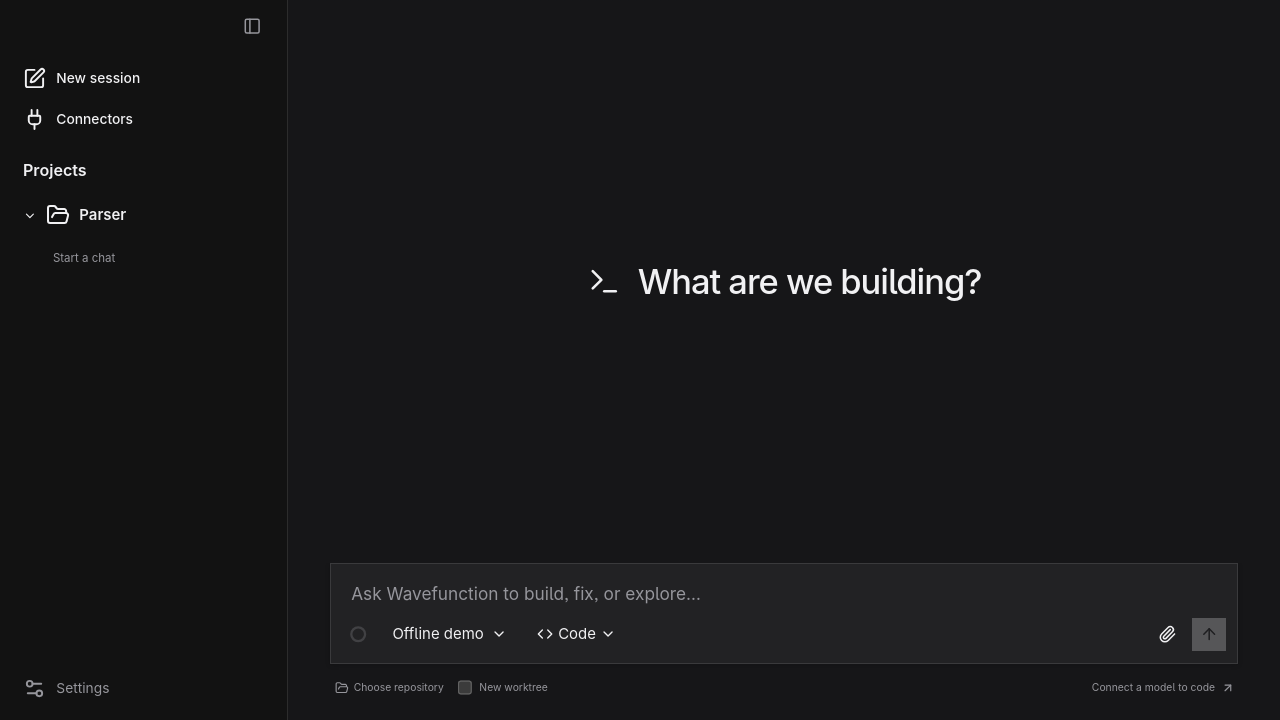
Test: replaces the project sidebar with settings and restores the chat draft
This screenshot has width=1280, height=720.
Type "Keep this draft" into the text box named "Message Wavefunction".
click(784, 589); type("Keep this draft")  # box x1=330 y1=564 x2=1237 y2=614
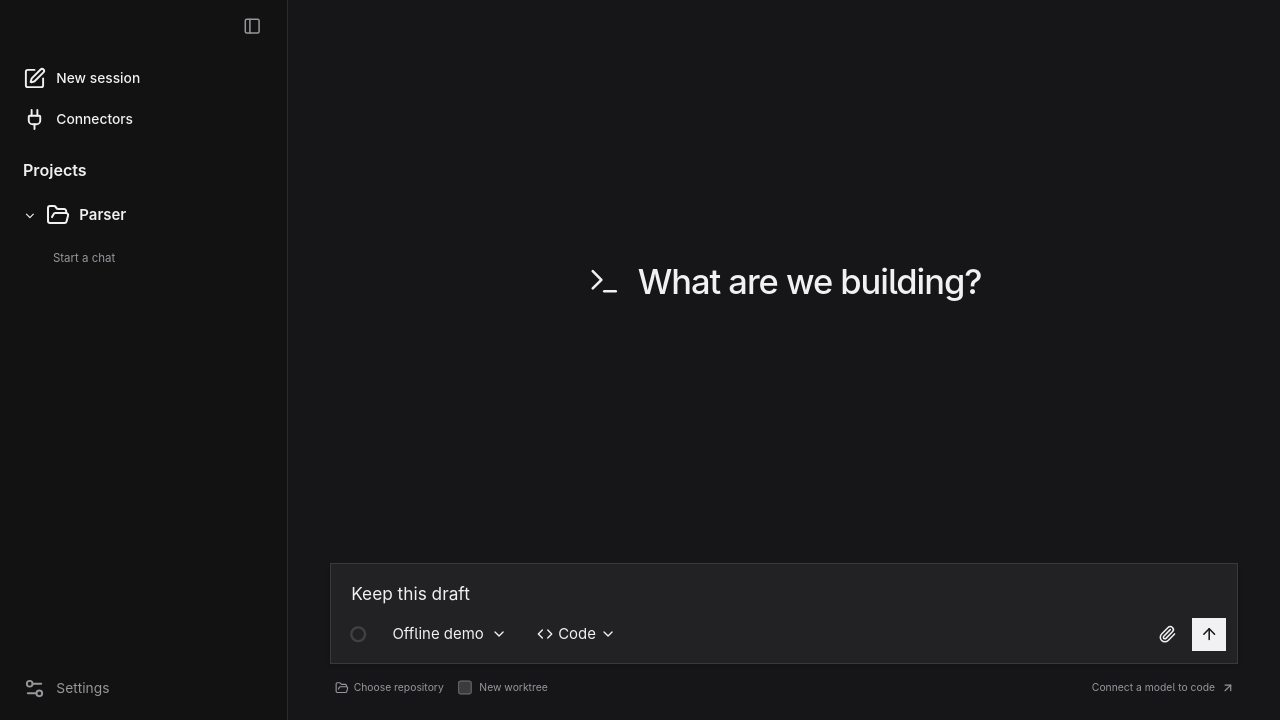
Click the button "Settings".
click(143, 689)  # box x1=14 y1=669 x2=273 y2=708
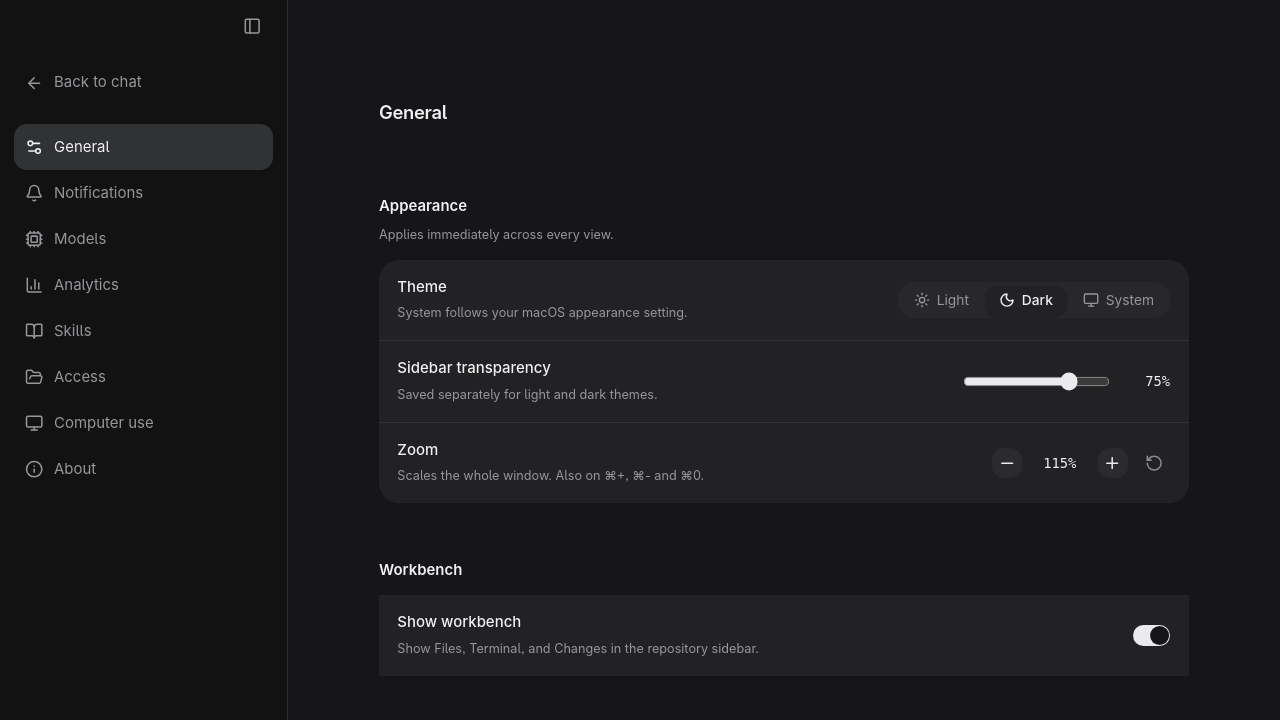
Now the heading "General" is shown, box x1=379 y1=99 x2=447 y2=126
Click the button "Back to chat".
click(143, 83)  # box x1=14 y1=60 x2=273 y2=106
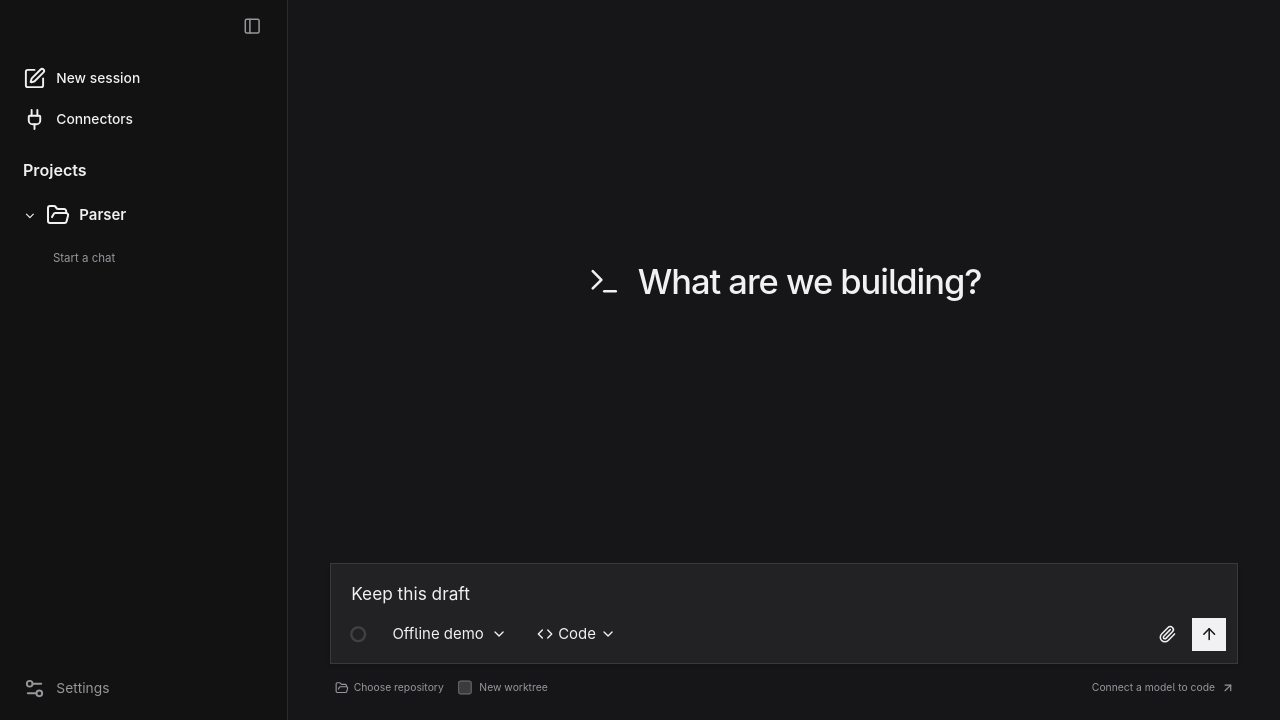
Now the element named "Projects sidebar" is shown, box x1=0 y1=0 x2=288 y2=719
Now the text box named "Message Wavefunction" holds "Keep this draft", box x1=330 y1=564 x2=1237 y2=614
